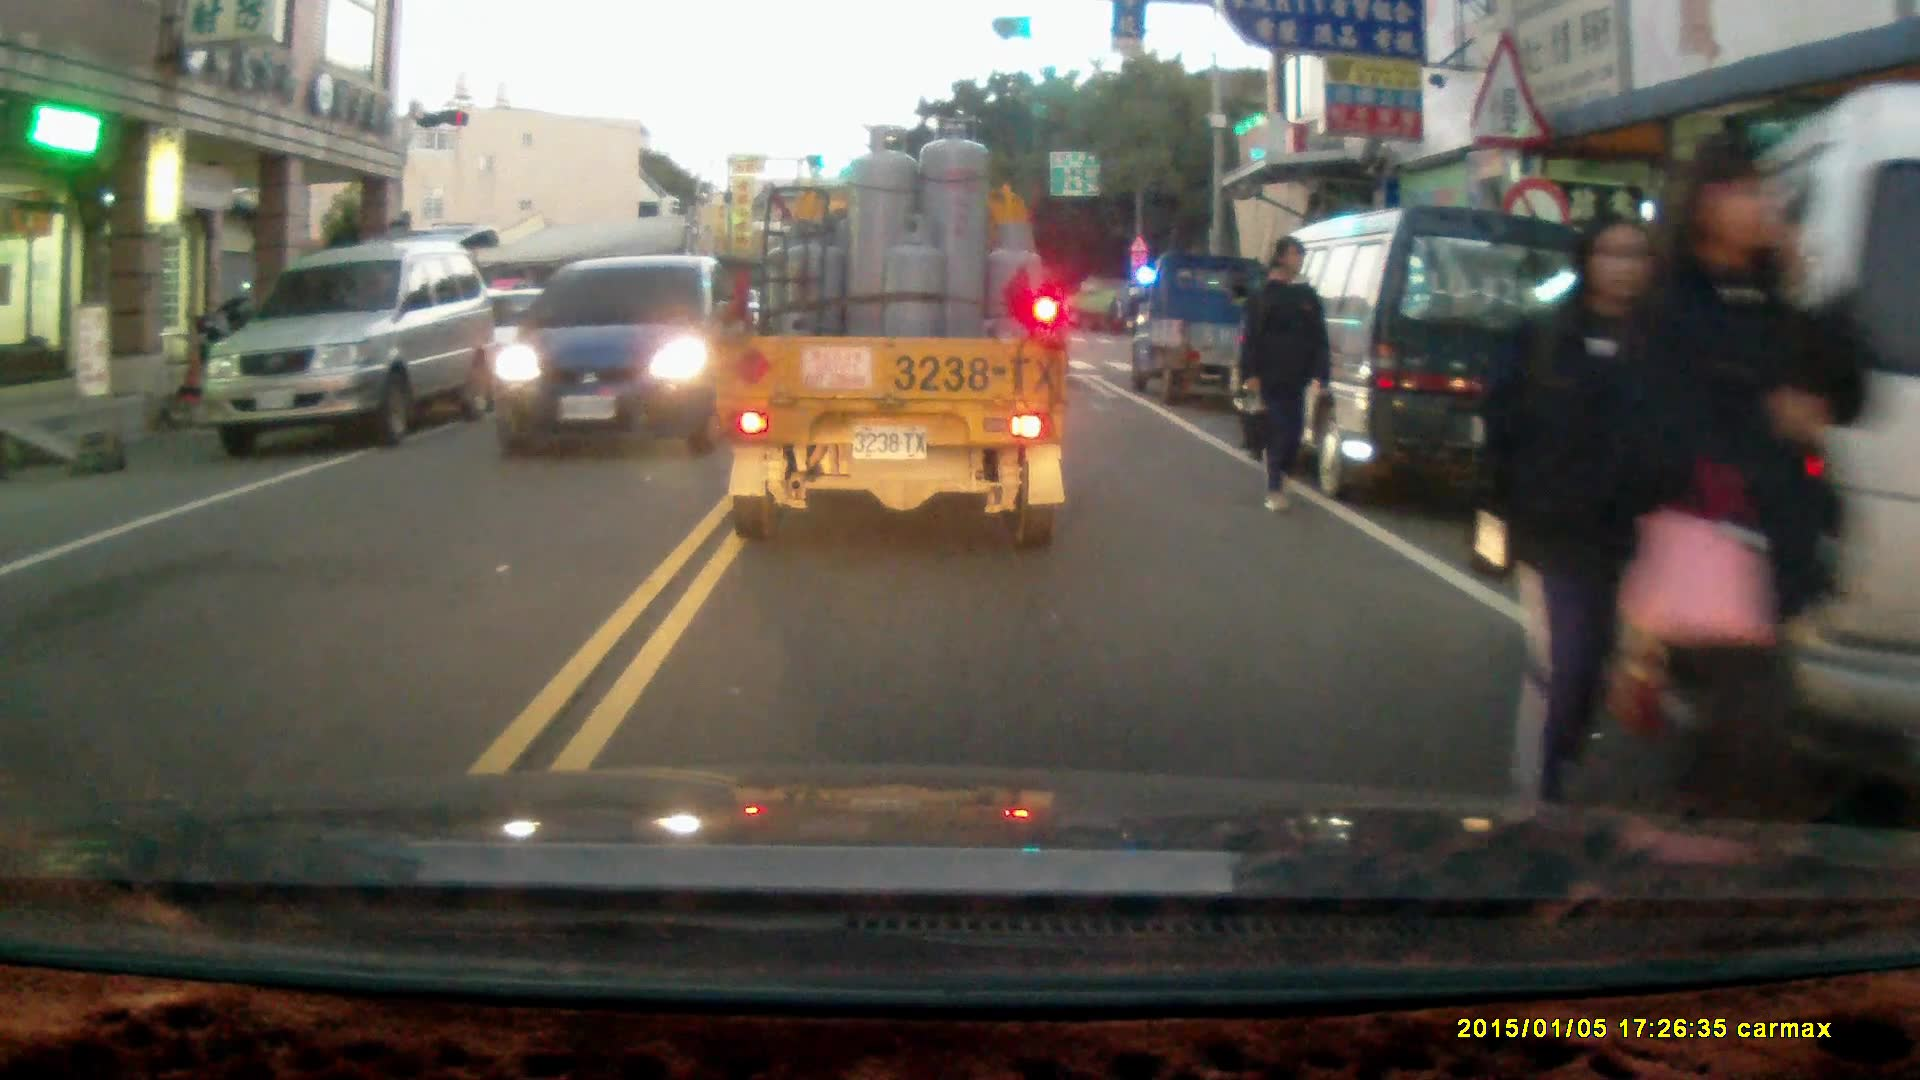pedestrian: (1611, 123, 1869, 835), (1486, 207, 1688, 853), (1241, 234, 1341, 519)
vehicle: (1629, 107, 1920, 792), (713, 120, 1073, 540), (1233, 204, 1609, 523), (207, 243, 500, 458), (491, 258, 765, 454), (421, 287, 595, 411), (1124, 249, 1251, 401)
